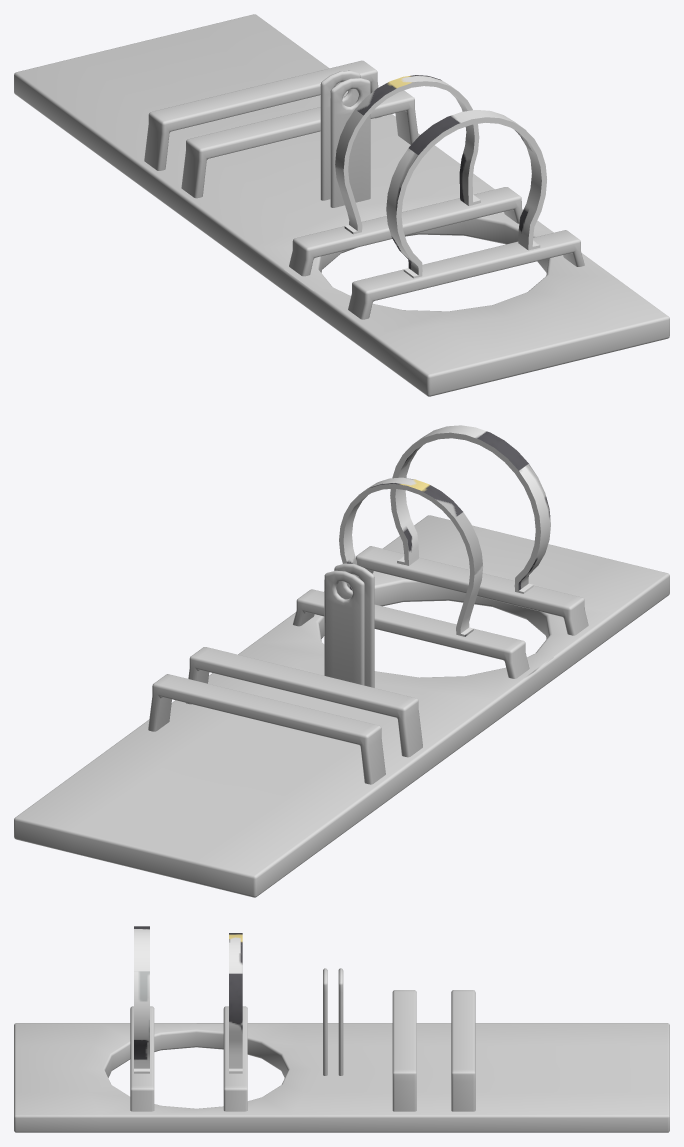
Rendered from Plate.fbx.
The picture shows the model from 3 angles, top to bottom: view 1: azimuth 30°, elevation 25°; view 2: azimuth 150°, elevation 25°; view 3: azimuth 270°, elevation 25°; orthographic projection. The views are drawn at different scales.
Visible parts, largest first — view 1: Blade.001; view 2: Blade.001; view 3: Blade.001.
Part boxes in pixels (bbox=[...]): Blade.001: bbox=[14, 14, 669, 396]; Blade.001: bbox=[14, 425, 669, 897]; Blade.001: bbox=[14, 926, 669, 1132].
Size of the model in its own units: 28.32 by 21.64 by 83.84.
